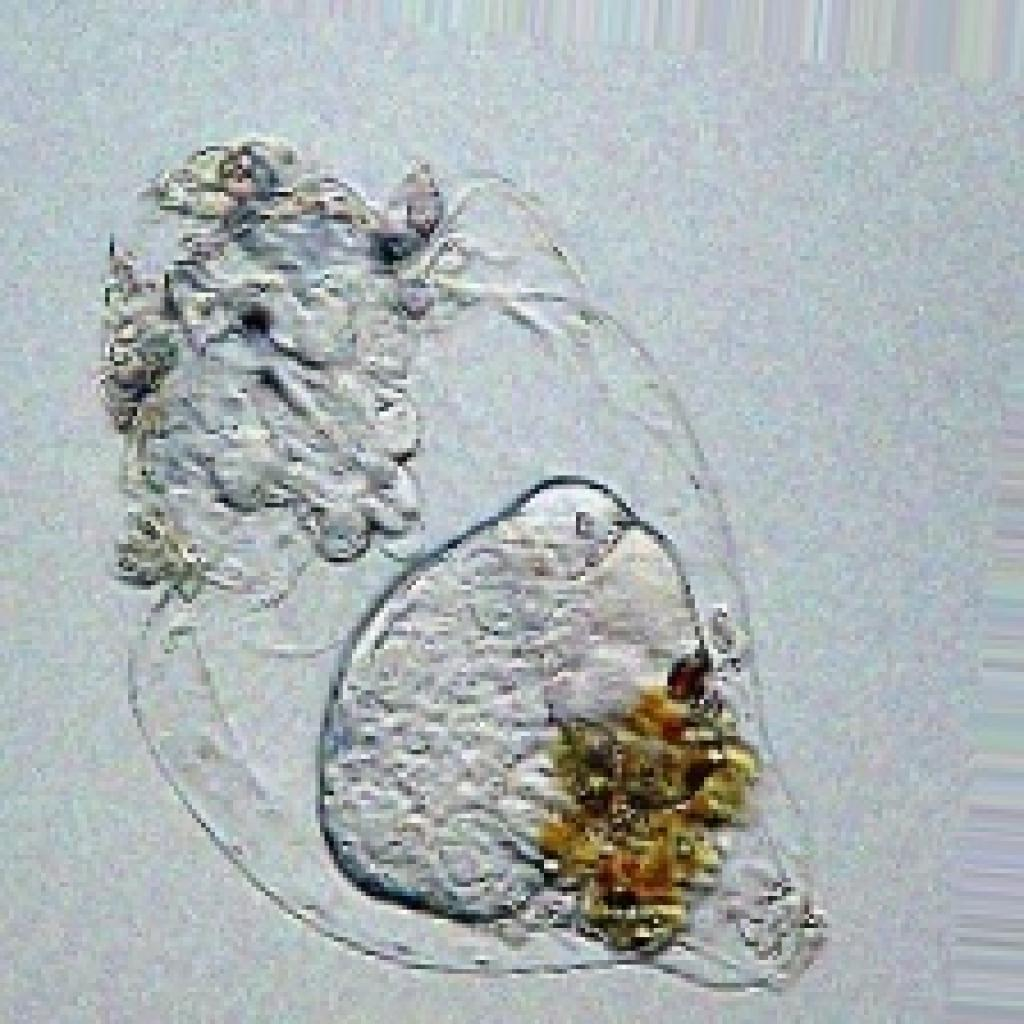Rotifer: (92, 128, 828, 992)
